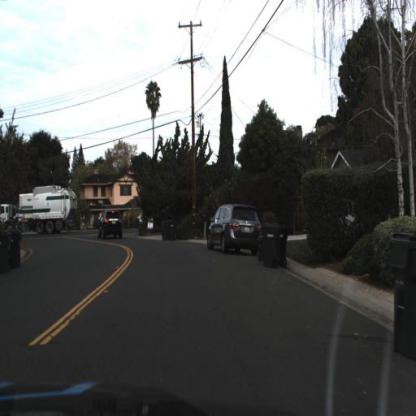car: (207, 202, 269, 261), (205, 203, 262, 254), (93, 205, 128, 241)
truck: (1, 183, 81, 237), (1, 184, 78, 235)
